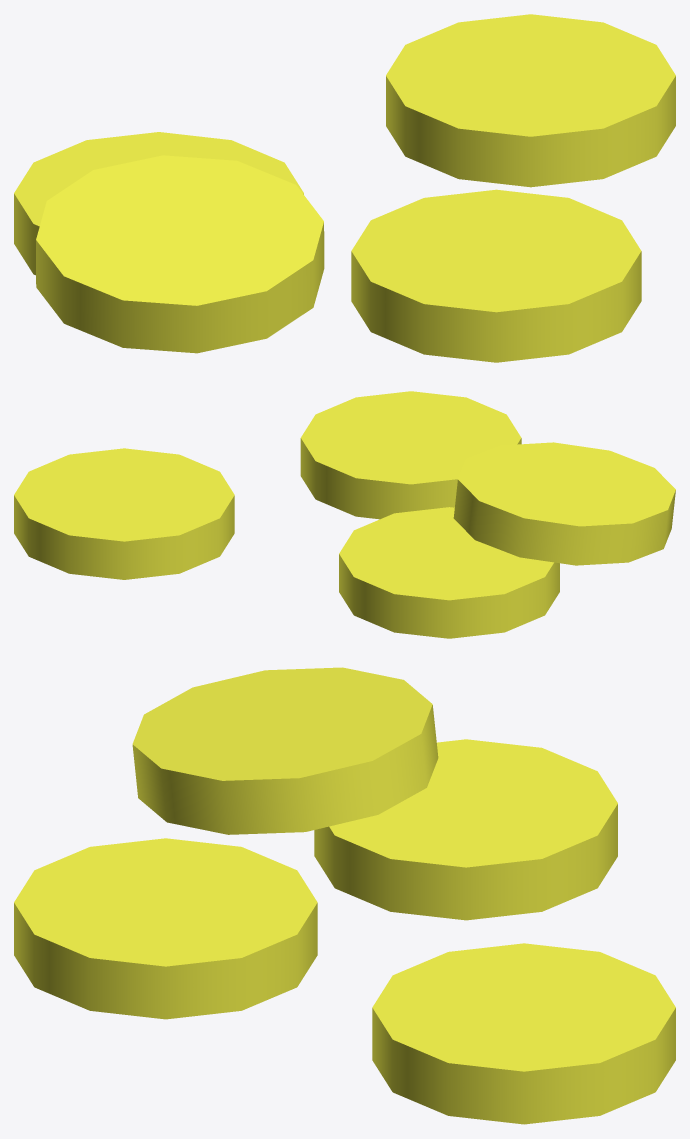
The model's file is Coins 5.glb.
3 views of the same model, one above another, from view 1: azimuth 30°, elevation 25°; view 2: azimuth 150°, elevation 25°; view 3: azimuth 270°, elevation 25° (orthographic). The views are drawn at different scales.
Parts seen in each view (by area): view 1: coins_5; view 2: coins_5; view 3: coins_5.
Boxes of the visible parts, box(x1,y1,x2,y2) form: coins_5: box(14, 14, 675, 362); coins_5: box(14, 391, 675, 638); coins_5: box(14, 667, 675, 1124).
Bounding box in the file's own units: 0.5702 × 0.0825 × 0.436.
